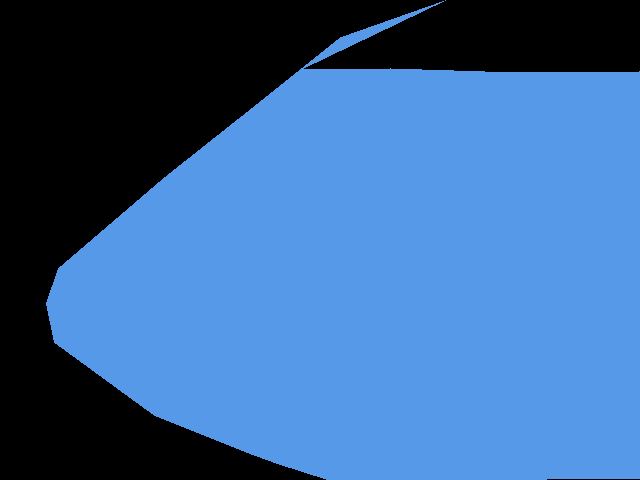Airplane: (46, 0, 640, 480)
